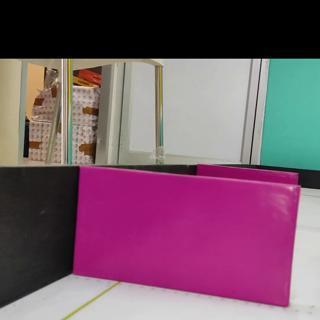xparking: (73, 167, 300, 306), (198, 165, 298, 184)
